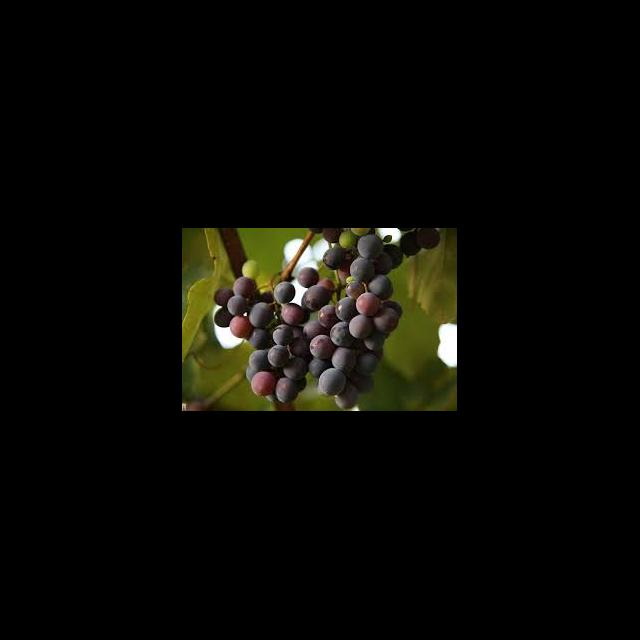grape: (212, 228, 440, 410)
